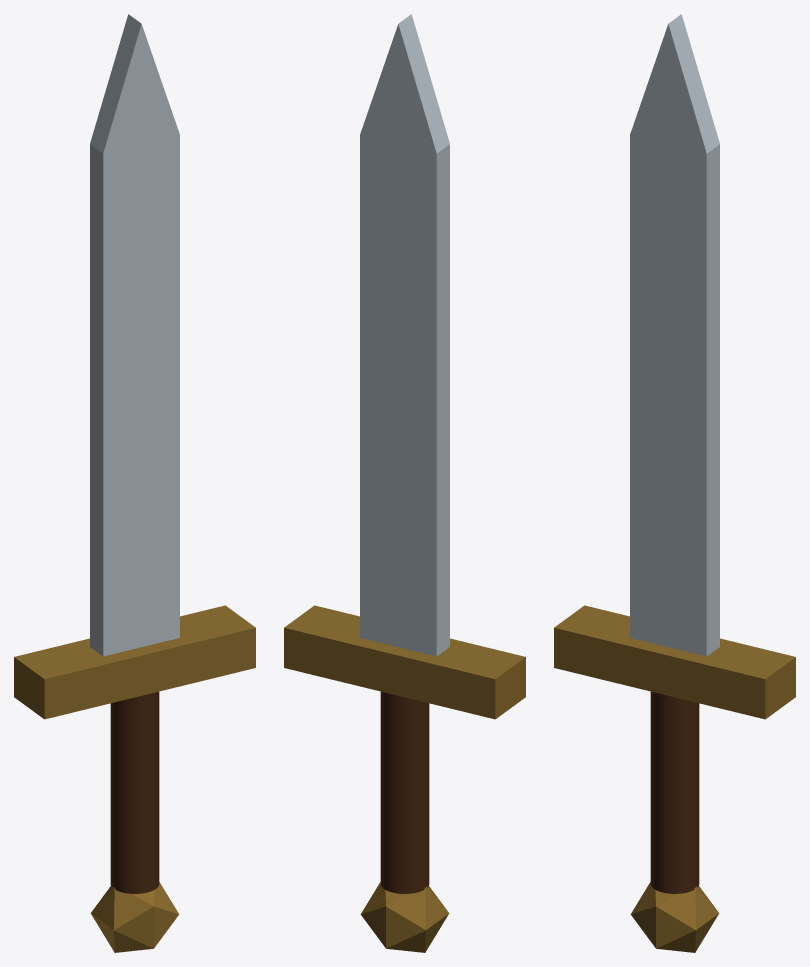
Rendered from short_sword.glb.
The picture shows the model from 3 angles, left to right: view 1: azimuth 30°, elevation 25°; view 2: azimuth 150°, elevation 25°; view 3: azimuth 330°, elevation 25°; orthographic projection.
Parts seen in each view (by area): view 1: ss_blade, ss_guard, ss_grip, ss_pommel; view 2: ss_blade, ss_guard, ss_grip, ss_pommel; view 3: ss_blade, ss_guard, ss_grip, ss_pommel.
Boxes of the visible parts, x1,y1,x2,y2 form: ss_blade: (90,14,179,656); ss_guard: (14,605,255,719); ss_grip: (110,691,159,893); ss_pommel: (90,882,179,952); ss_blade: (360,14,449,656); ss_guard: (284,605,525,719); ss_grip: (380,691,429,893); ss_pommel: (360,882,449,952); ss_blade: (630,14,719,656); ss_guard: (554,605,795,719); ss_grip: (650,691,699,893); ss_pommel: (630,882,719,952).
Bounding box in the file's own units: 0.22 × 0.924 × 0.0681.
